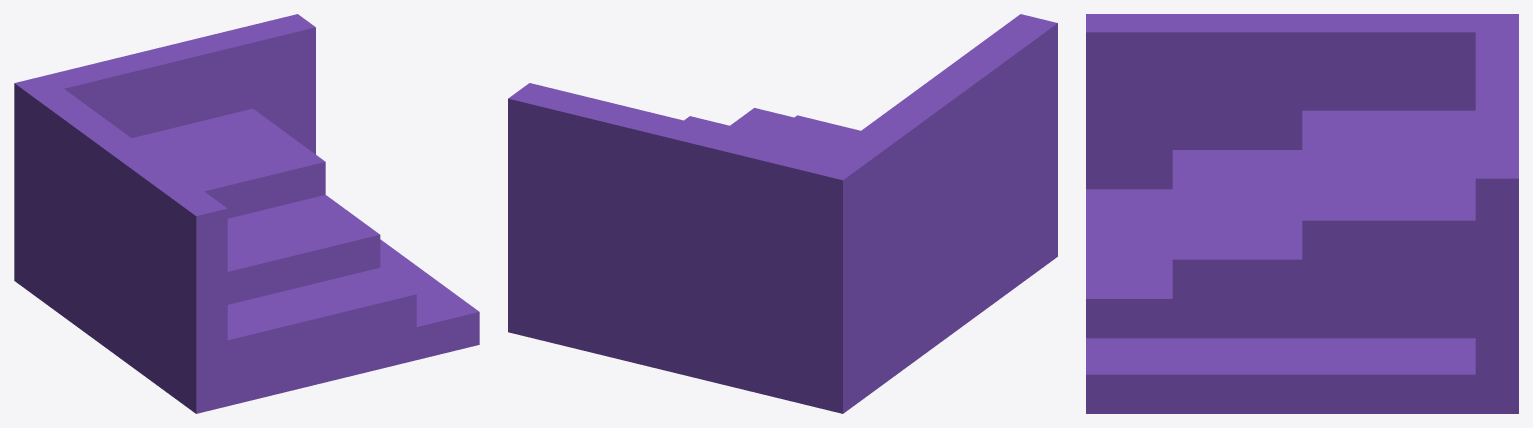
Rendered from PecaF.glb.
The picture shows the model from 3 angles, left to right: view 1: azimuth 30°, elevation 25°; view 2: azimuth 150°, elevation 25°; view 3: azimuth 270°, elevation 25°; orthographic projection. The views are drawn at different scales.
Parts seen in each view (by area): view 1: Sólido1; view 2: Sólido1; view 3: Sólido1.
Boxes of the visible parts, x1,y1,x2,y2 form: Sólido1: (14, 14, 479, 413); Sólido1: (508, 14, 1057, 413); Sólido1: (1086, 14, 1518, 413).
Bounding box in the file's own units: 0.045 × 0.03 × 0.05.
